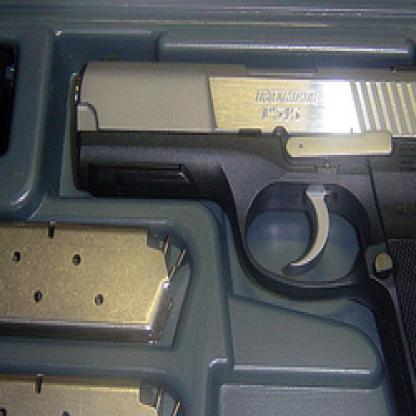gun: (60, 38, 414, 414)
